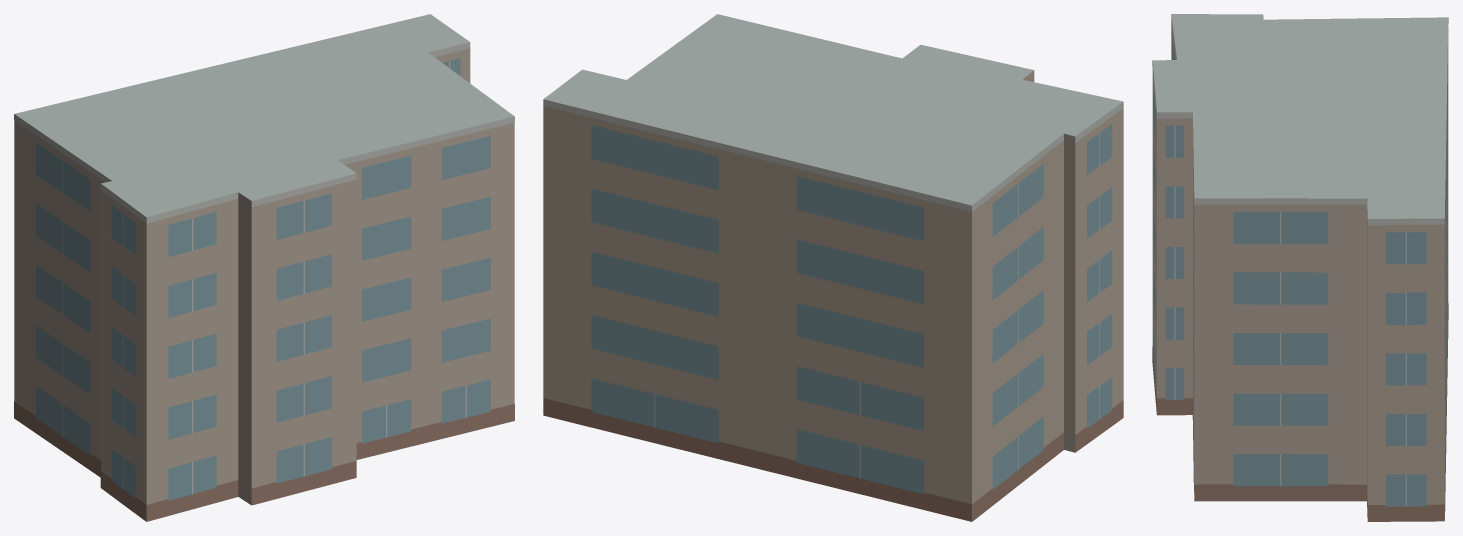
The model's file is survey-upis-32813939.glb.
3 renders of one model, left to right at view 1: azimuth 30°, elevation 25°; view 2: azimuth 150°, elevation 25°; view 3: azimuth 270°, elevation 25°, orthographic. The views are drawn at different scales.
Visible parts, largest first — view 1: survey-upis-32813939.tmp; view 2: survey-upis-32813939.tmp; view 3: survey-upis-32813939.tmp.
Part boxes in pixels (<box>): survey-upis-32813939.tmp: <box>14,14,514,521</box>; survey-upis-32813939.tmp: <box>543,14,1123,521</box>; survey-upis-32813939.tmp: <box>1152,14,1448,521</box>.
Size of the model in its own units: 17.14 by 11.8 by 10.45.
